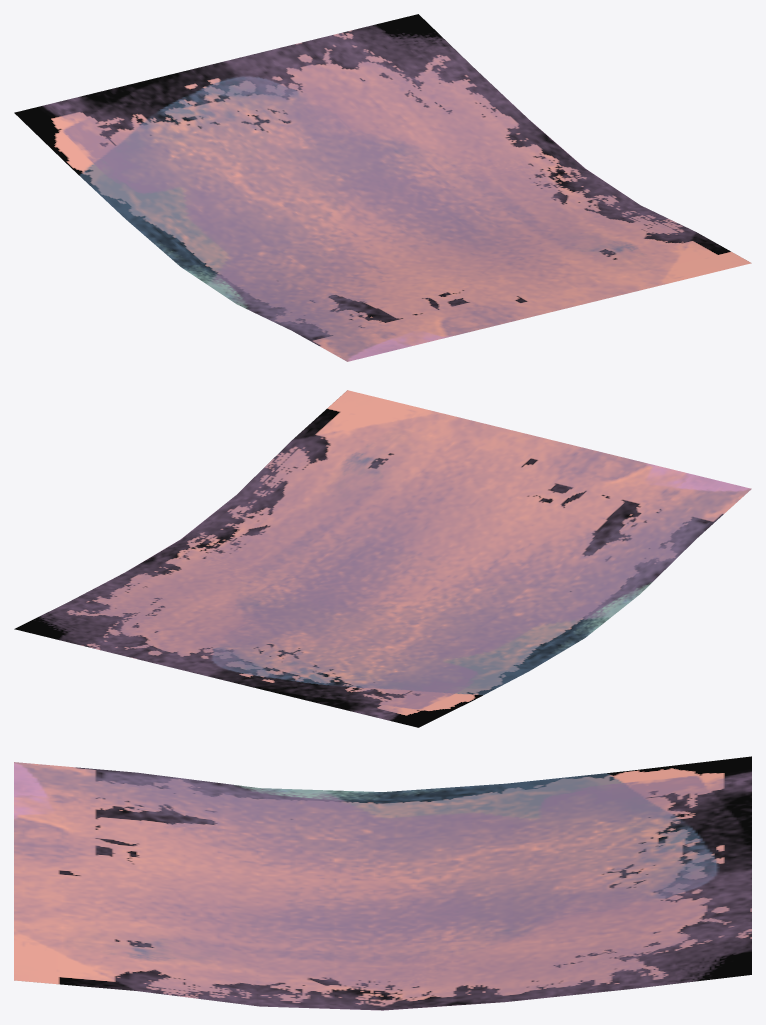
Rendered from S_BrushStroke_PinkLarge.fbx.
The picture shows the model from 3 angles, top to bottom: view 1: azimuth 30°, elevation 25°; view 2: azimuth 150°, elevation 25°; view 3: azimuth 270°, elevation 25°; orthographic projection. The views are drawn at different scales.
Visible parts, largest first — view 1: S_BrushStroke_PinkLarge; view 2: S_BrushStroke_PinkLarge; view 3: S_BrushStroke_PinkLarge.
Boxes of the visible parts, bbox=[...] form: S_BrushStroke_PinkLarge: bbox=[14, 14, 751, 361]; S_BrushStroke_PinkLarge: bbox=[14, 390, 751, 727]; S_BrushStroke_PinkLarge: bbox=[14, 756, 751, 1010].
Size of the model in its own units: 1.36 by 0.1036 by 1.94.
